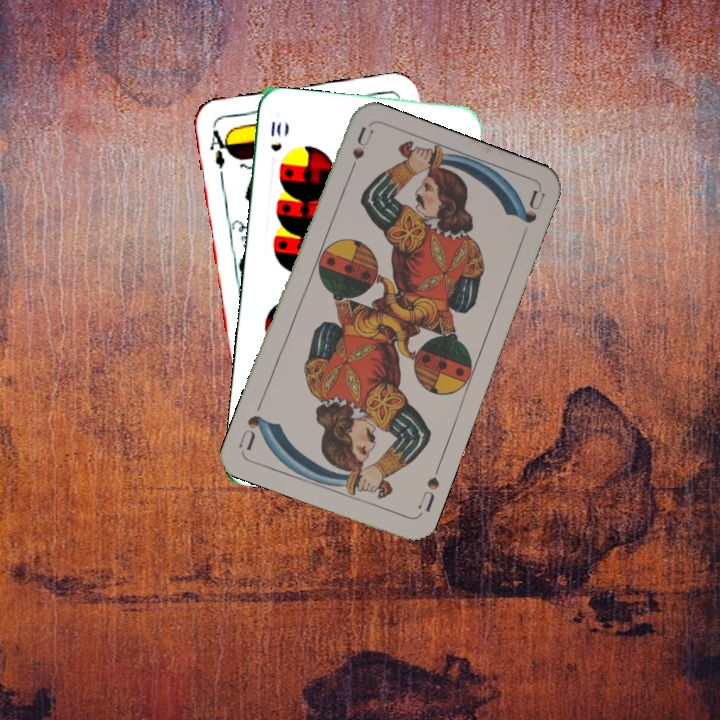EA: (205, 126, 233, 171)
S10: (267, 118, 284, 154)
SU: (343, 124, 376, 182), (413, 461, 443, 515)
